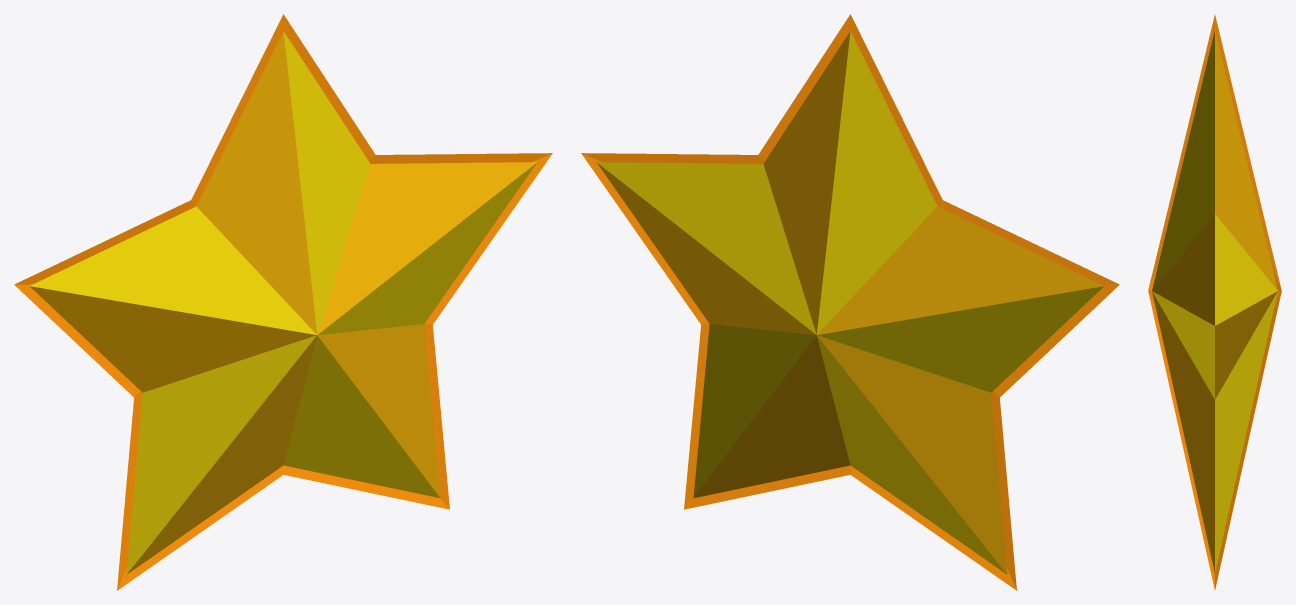
File: star.glb
3 renders of one model, left to right at view 1: azimuth 30°, elevation 25°; view 2: azimuth 150°, elevation 25°; view 3: azimuth 270°, elevation 25°, orthographic. The views are drawn at different scales.
Parts seen in each view (by area): view 1: Star; view 2: Star; view 3: Star.
Part boxes in pixels (<box>): Star: <box>14,14,552,590</box>; Star: <box>581,14,1119,590</box>; Star: <box>1148,15,1281,589</box>.
Size of what is drawn, in the model's own units: 1.47 by 1.39 by 0.3371.
